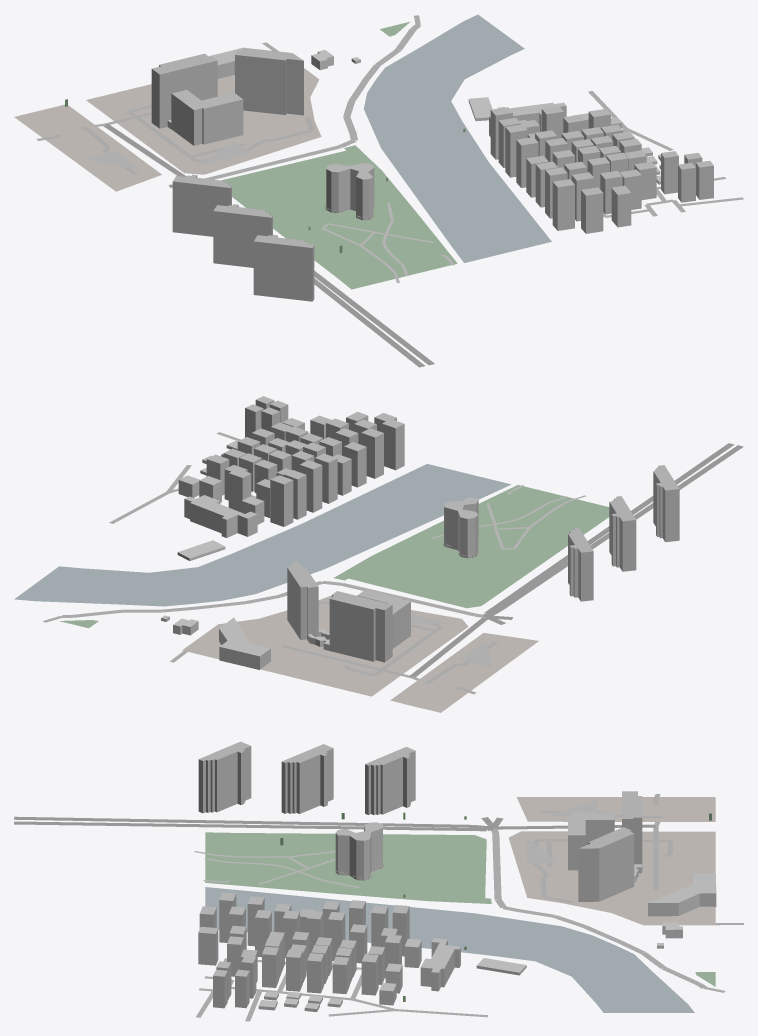
3 views of the same model, one above another, from view 1: azimuth 30°, elevation 25°; view 2: azimuth 150°, elevation 25°; view 3: azimuth 270°, elevation 25° (orthographic). The views are drawn at different scales.
Bounding box in the file's own units: 528 × 59.4 × 715.
